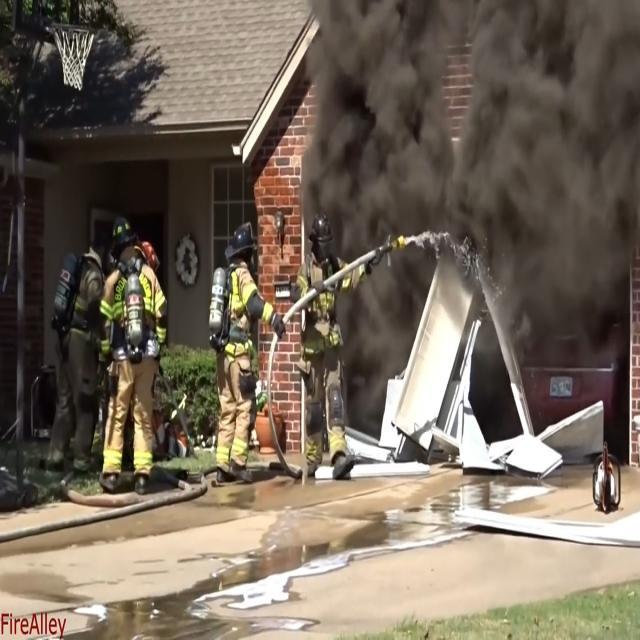Smoke: (314, 2, 618, 291)
